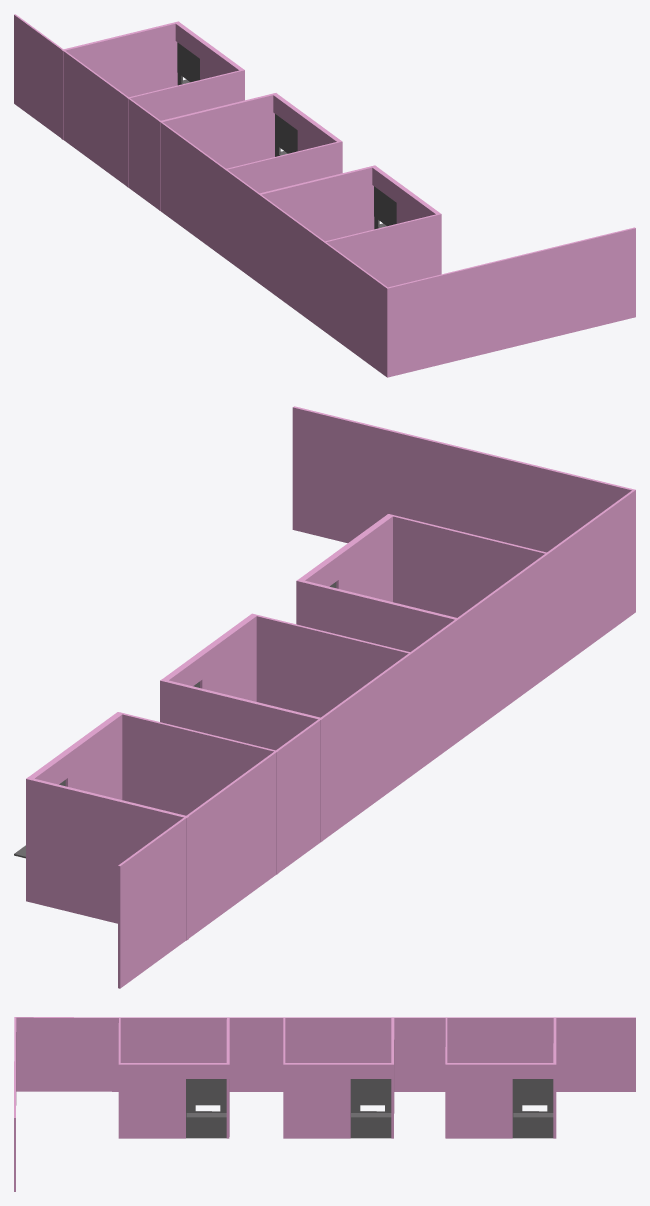
Rendered from Isolation_area.dae.
The picture shows the model from 3 angles, top to bottom: view 1: azimuth 30°, elevation 25°; view 2: azimuth 150°, elevation 25°; view 3: azimuth 270°, elevation 25°; orthographic projection. The views are drawn at different scales.
Parts seen in each view (by area): view 1: Cube.001, wall1.001, wall1.006, wall1.004, wall1.003, wall1.002, wall1.005, wall1.007, wall3.006, wall3.004, wall3.002, wall3.001 (+5 smaller); view 2: Cube.001, wall1.001, wall1.006, wall1.007, wall1.005, wall1.002, wall1.004, wall1.003, wall3.007, wall3.005, wall3.001, wall3.002 (+2 smaller); view 3: Cube.001, wall3.001, wall3.007, wall3.005, wall2.017, wall2.012, wall2.003, wall2.014, wall2.009, wall2.006, wall3.004, wall3.002 (+5 smaller).
Boxes of the visible parts, x1,y1,x2,y2 form: Cube.001: [14, 14, 387, 377]; wall1.001: [387, 227, 635, 377]; wall1.006: [61, 21, 179, 139]; wall1.004: [159, 93, 277, 211]; wall1.003: [258, 165, 376, 241]; wall1.002: [324, 213, 440, 287]; wall1.005: [224, 142, 341, 258]; wall1.007: [127, 69, 244, 187]; wall3.006: [175, 22, 214, 68]; wall3.004: [273, 94, 311, 140]; wall3.002: [372, 166, 410, 212]; wall3.001: [396, 184, 441, 274]; Cube.001: [118, 489, 635, 988]; wall1.001: [292, 406, 633, 552]; wall1.006: [26, 777, 188, 940]; wall1.007: [117, 712, 278, 874]; wall1.005: [251, 614, 412, 776]; wall1.002: [390, 515, 548, 617]; wall1.004: [160, 679, 323, 841]; wall1.003: [296, 579, 456, 651]; wall3.007: [62, 712, 122, 799]; wall3.005: [196, 613, 257, 701]; wall3.001: [333, 514, 393, 601]; wall3.002: [296, 542, 358, 605]; Cube.001: [14, 1017, 635, 1091]; wall3.001: [118, 1063, 185, 1138]; wall3.007: [445, 1063, 512, 1138]; wall3.005: [283, 1063, 350, 1138]; wall2.017: [512, 1079, 553, 1105]; wall2.012: [350, 1079, 391, 1105]; wall2.003: [186, 1079, 226, 1105]; wall2.014: [512, 1111, 553, 1138]; wall2.009: [350, 1111, 391, 1138]; wall2.006: [186, 1111, 226, 1138]; wall3.004: [350, 1063, 391, 1078]; wall3.002: [186, 1063, 229, 1078].
Bounding box in the file's own units: 9.07 × 23.67 × 3.11.
